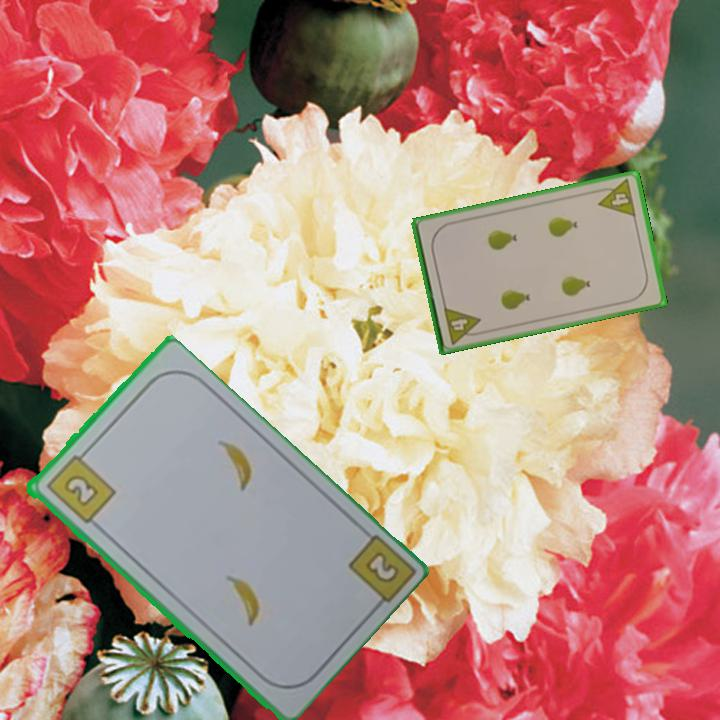2b: (42, 446, 118, 527), (365, 551, 399, 583)
4p: (592, 176, 639, 220), (440, 303, 485, 347)
